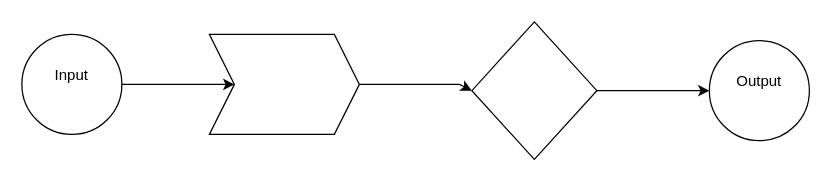
Some shapes in this 831 by 181 pixel diagram are drawn without their labels. Here are the shapes that lost their labels. From the top down, the centre of each, then its label:
At point 283,83: "Spiking Neurons".
At point 534,90: "Processing Cores".
